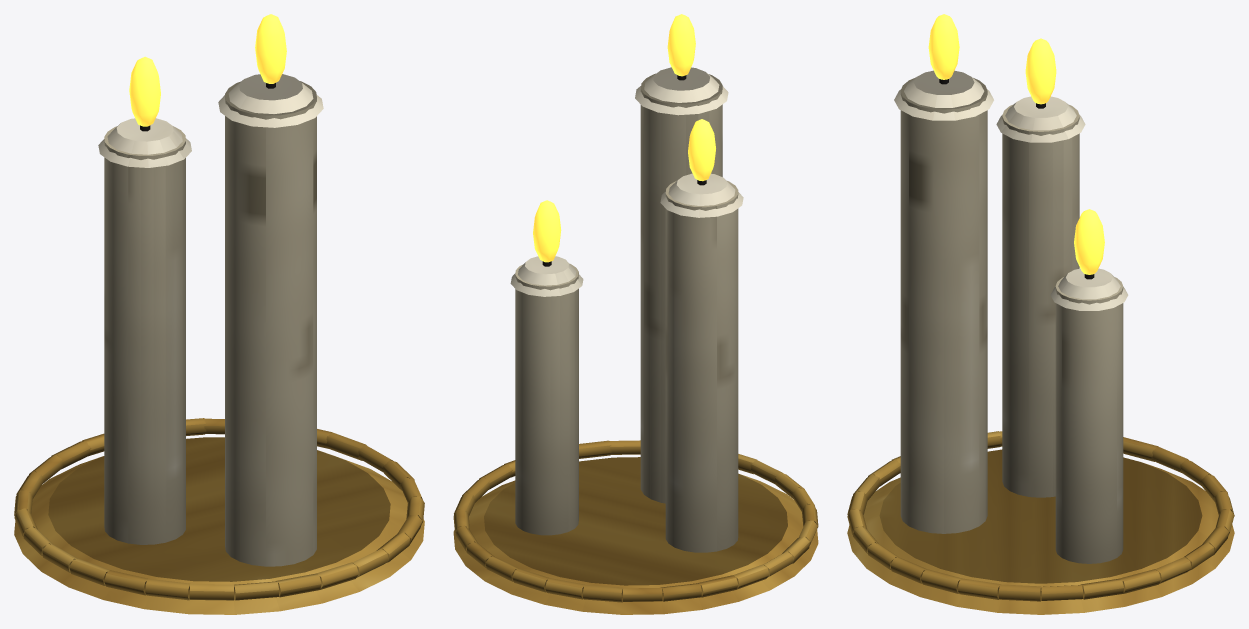
File: candles.glb
3 renders of one model, left to right at view 1: azimuth 30°, elevation 25°; view 2: azimuth 150°, elevation 25°; view 3: azimuth 270°, elevation 25°, orthographic. The views are drawn at different scales.
Parts seen in each view (by area): view 1: candles; view 2: candles; view 3: candles.
Boxes of the visible parts, x1,y1,x2,y2 form: candles: [14, 14, 424, 614]; candles: [453, 14, 818, 614]; candles: [847, 14, 1234, 614].
Size of the model in its own units: 0.24 by 0.3548 by 0.24.
5 materials, 4 textured.
